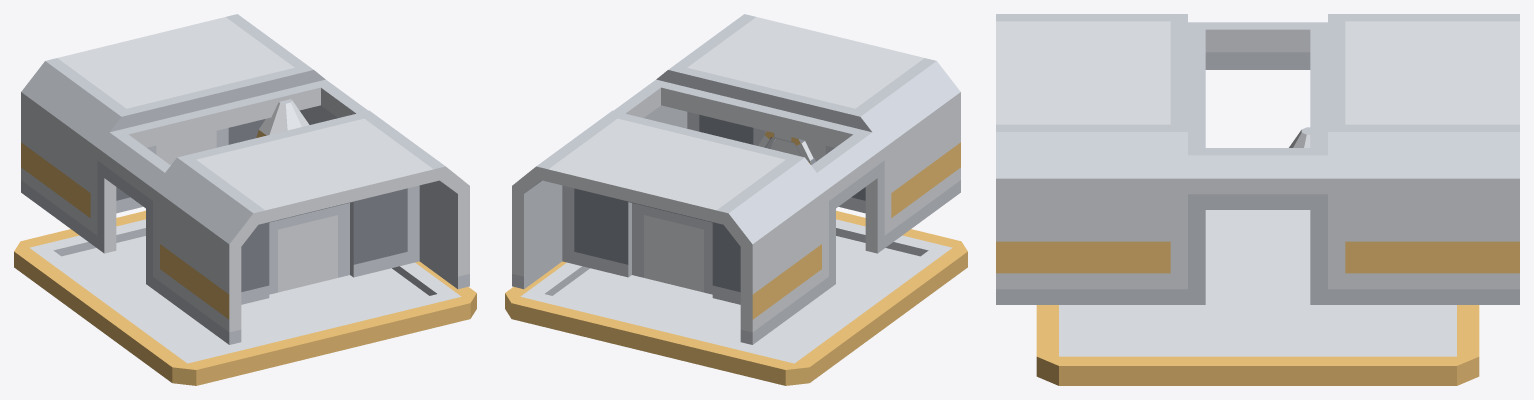
File: building_assembly_bay.glb
3 views of the same model, side by side, from view 1: azimuth 30°, elevation 25°; view 2: azimuth 150°, elevation 25°; view 3: azimuth 270°, elevation 25° (orthographic). The views are drawn at different scales.
Visible parts, largest first — view 1: hangar_largeA, platform_large.002, gate.001, gate, rocket_topA; view 2: hangar_largeA, platform_large.002, gate, gate.001, gate_complex; view 3: hangar_largeA, platform_large.002.
Part boxes in pixels (left/top/right/bottom): hangar_largeA: left=21, top=14, right=469, bottom=344; platform_large.002: left=14, top=210, right=476, bottom=385; gate.001: left=241, top=185, right=419, bottom=304; gate: left=116, top=119, right=265, bottom=213; rocket_topA: left=256, top=99, right=309, bottom=137; hangar_largeA: left=512, top=14, right=960, bottom=344; platform_large.002: left=505, top=210, right=967, bottom=385; gate: left=562, top=185, right=740, bottom=304; gate.001: left=687, top=112, right=865, bottom=213; gate_complex: left=758, top=131, right=815, bottom=164; hangar_largeA: left=996, top=14, right=1519, bottom=304; platform_large.002: left=1036, top=210, right=1479, bottom=385.
Size of the model in its own units: 3.72 by 2.03 by 4.4.
